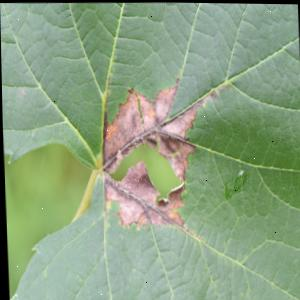Folha: (0, 0, 300, 300)
Fungo: (97, 75, 211, 230), (102, 157, 185, 229), (153, 178, 184, 206), (101, 147, 121, 173), (92, 152, 102, 170), (154, 195, 169, 205), (19, 86, 25, 100), (209, 88, 215, 100), (236, 167, 243, 175)
